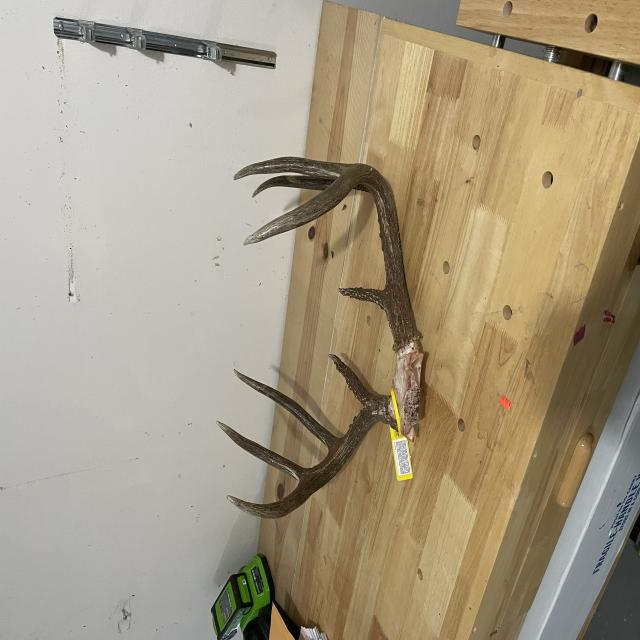L-F: (215, 322, 358, 559)
L-G1: (247, 450, 266, 515)
R-F: (91, 300, 184, 531)
R-G1: (174, 436, 215, 498)
R-G2: (141, 311, 204, 453)
R-G3: (118, 288, 164, 411)
